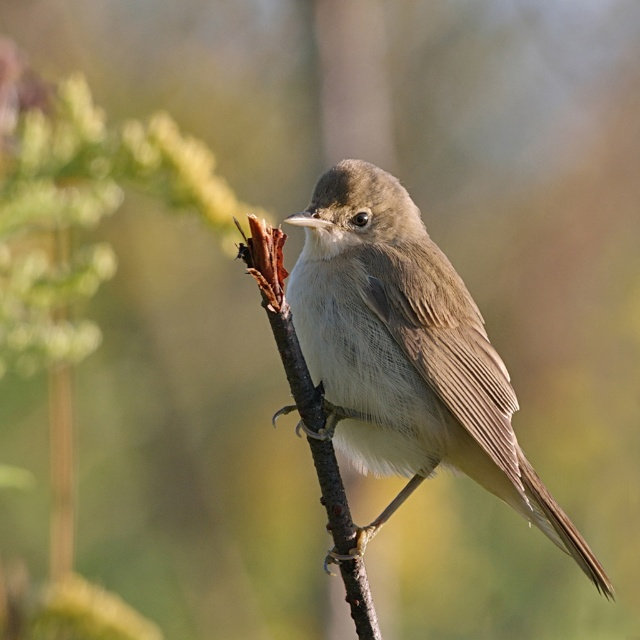Sparrow: (272, 158, 616, 599)
